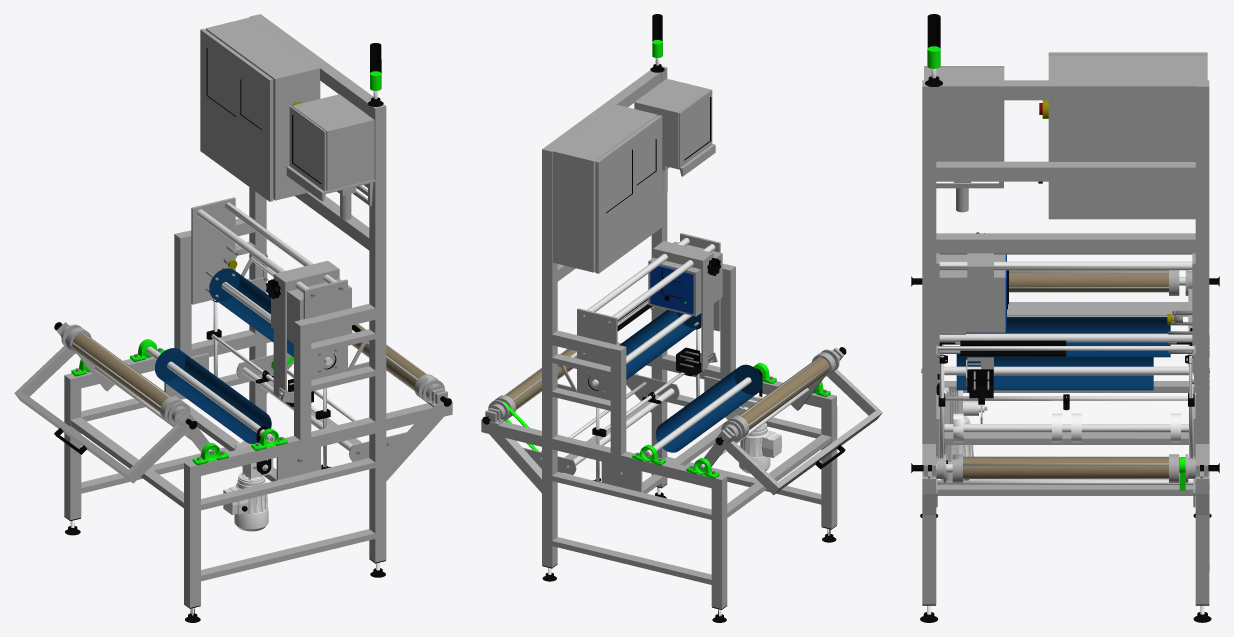
File: we roll rewinder with VideoJet printer.glb
3 views of the same model, side by side, from view 1: azimuth 30°, elevation 25°; view 2: azimuth 150°, elevation 25°; view 3: azimuth 270°, elevation 25° (orthographic). The views are drawn at different scales.
Parts seen in each view (by area): view 1: Cube.001; view 2: Cube.001; view 3: Cube.001.
Part boxes in pixels (x1=…): Cube.001: x1=14, y1=14, x2=452, y2=622; Cube.001: x1=481, y1=14, x2=882, y2=622; Cube.001: x1=911, y1=14, x2=1219, y2=622.
Size of the model in its own units: 1.48 by 2.3 by 1.07.
